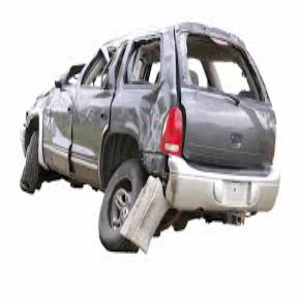bumper: (124, 157, 207, 247)
